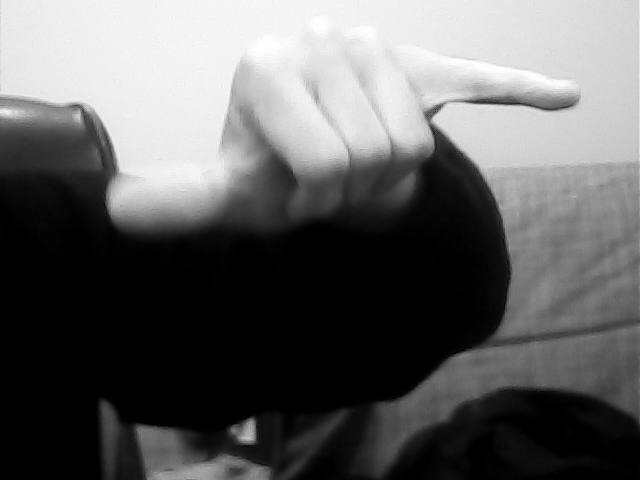aloha: (100, 4, 583, 265)
